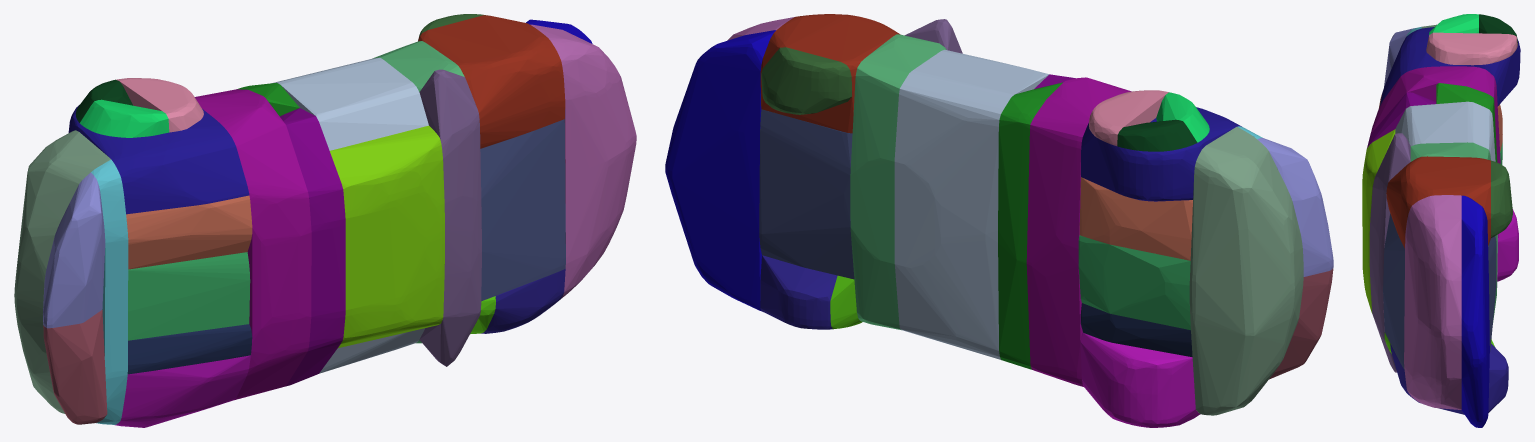
Rendered from coacd_collision.obj.
The picture shows the model from 3 angles, left to right: view 1: azimuth 30°, elevation 25°; view 2: azimuth 150°, elevation 25°; view 3: azimuth 270°, elevation 25°; orthographic projection. The views are drawn at different scales.
Parts seen in each view (by area): view 1: geometry_4, geometry_14, geometry_7, geometry_16, geometry_1, geometry_15, geometry_6, geometry_20, geometry_0, geometry_11, geometry_10, geometry_12 (+11 smaller); view 2: geometry_6, geometry_0, geometry_5, geometry_14, geometry_16, geometry_3, geometry_8, geometry_22, geometry_10, geometry_20, geometry_9, geometry_15 (+10 smaller); view 3: geometry_7, geometry_5, geometry_15, geometry_6, geometry_1, geometry_16, geometry_14, geometry_20, geometry_24, geometry_4, geometry_18, geometry_19 (+8 smaller).
Boxes of the visible parts, bbox=[...] form: geometry_4: bbox=[330, 125, 444, 347]; geometry_14: bbox=[195, 89, 311, 400]; geometry_7: bbox=[530, 24, 636, 299]; geometry_16: bbox=[480, 119, 565, 301]; geometry_1: bbox=[419, 69, 481, 366]; geometry_15: bbox=[418, 15, 565, 148]; geometry_6: bbox=[272, 57, 428, 373]; geometry_20: bbox=[68, 105, 249, 214]; geometry_0: bbox=[14, 130, 110, 413]; geometry_11: bbox=[280, 108, 345, 386]; geometry_10: bbox=[128, 252, 250, 340]; geometry_12: bbox=[43, 172, 105, 328]; geometry_6: bbox=[894, 49, 1048, 359]; geometry_0: bbox=[1189, 127, 1303, 415]; geometry_5: bbox=[665, 30, 775, 311]; geometry_14: bbox=[1026, 77, 1131, 386]; geometry_16: bbox=[759, 109, 854, 279]; geometry_3: bbox=[850, 34, 946, 330]; geometry_8: bbox=[998, 82, 1062, 369]; geometry_22: bbox=[1080, 332, 1200, 427]; geometry_10: bbox=[1078, 235, 1190, 330]; geometry_20: bbox=[1081, 107, 1241, 201]; geometry_9: bbox=[1079, 177, 1192, 260]; geometry_15: bbox=[760, 14, 900, 133]; geometry_7: bbox=[1404, 195, 1461, 409]; geometry_5: bbox=[1461, 195, 1489, 427]; geometry_15: bbox=[1386, 156, 1490, 248]; geometry_6: bbox=[1395, 101, 1497, 287]; geometry_1: bbox=[1369, 133, 1410, 372]; geometry_16: bbox=[1383, 213, 1496, 369]; geometry_14: bbox=[1370, 66, 1500, 237]; geometry_20: bbox=[1379, 27, 1520, 106]; geometry_24: bbox=[1426, 32, 1517, 65]; geometry_4: bbox=[1362, 129, 1395, 313]; geometry_18: bbox=[1390, 343, 1508, 414]; geometry_19: bbox=[1491, 160, 1512, 237].
Size of the model in its own units: 156 by 72.18 by 42.64.
